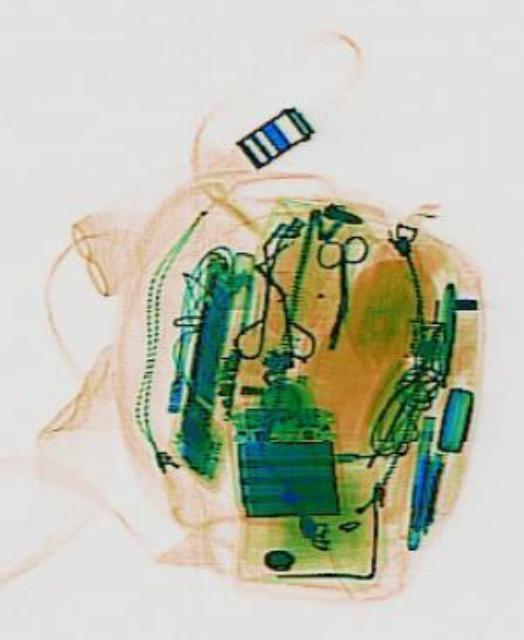Scissors: (312, 231, 367, 313)
